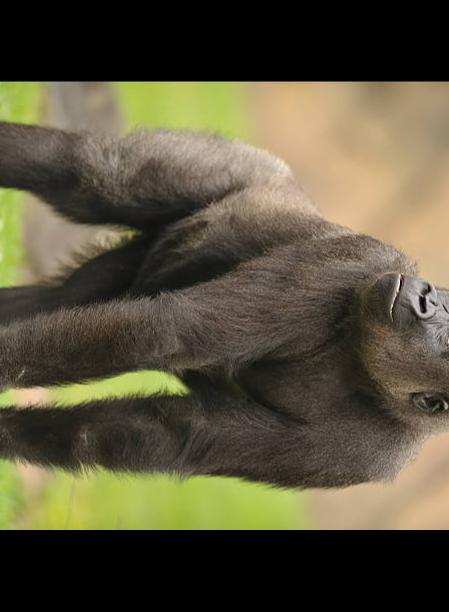gorille_Autres: (0, 101, 449, 530)
